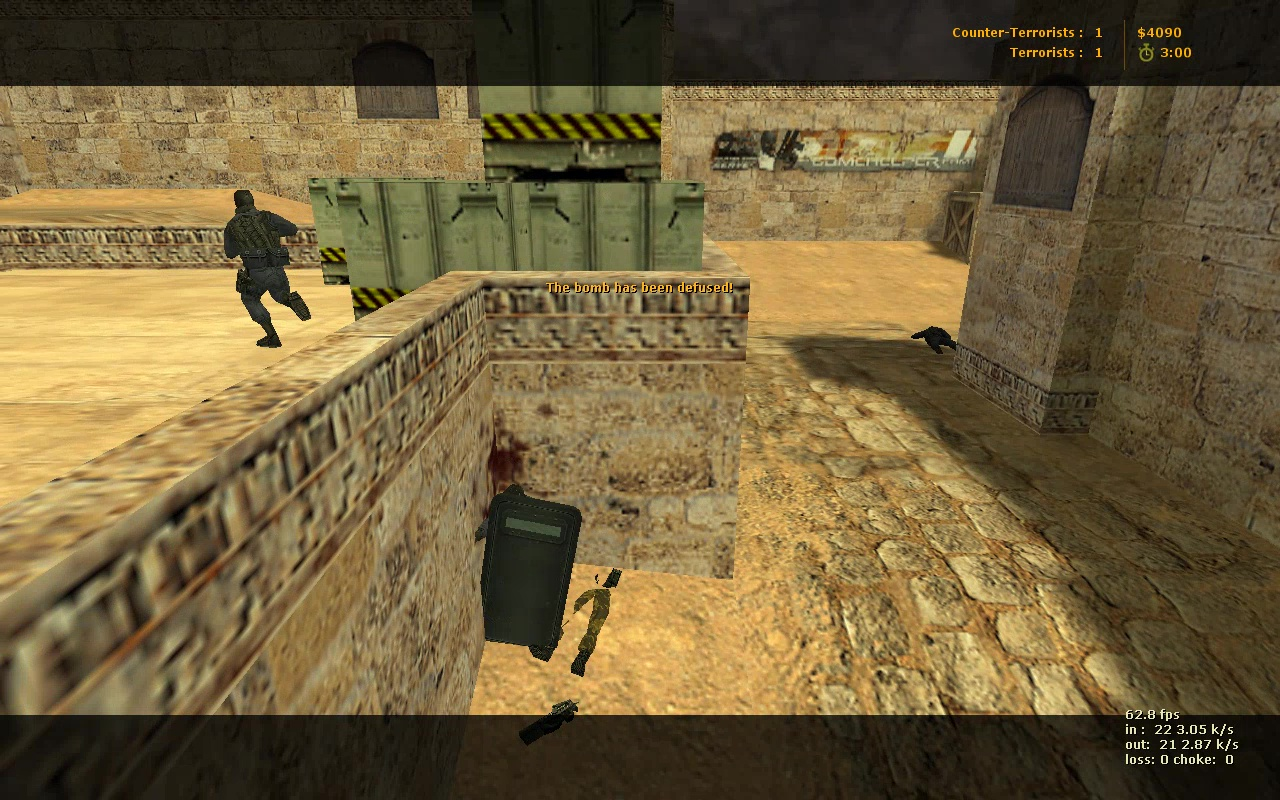ct: (484, 487, 580, 658), (220, 189, 315, 349)
dead: (908, 324, 961, 357)
